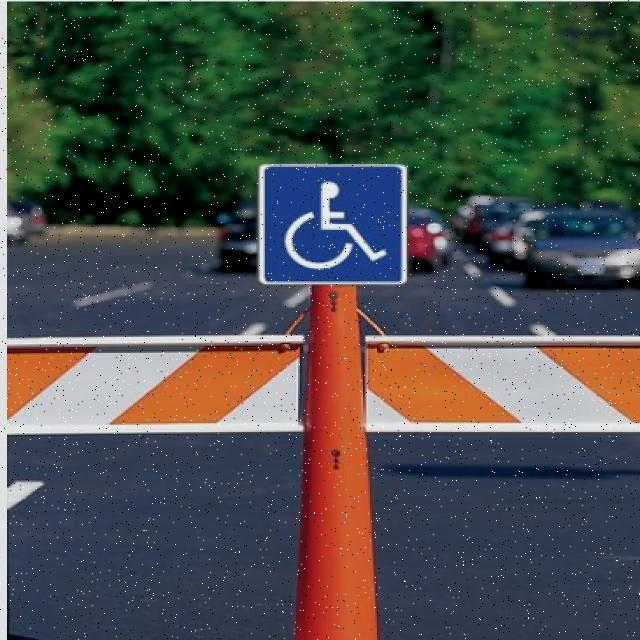symbol_of_access: (257, 161, 412, 287)
